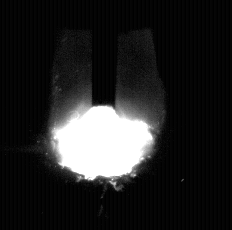arame: (92, 0, 117, 109)
poca: (50, 0, 159, 230)
